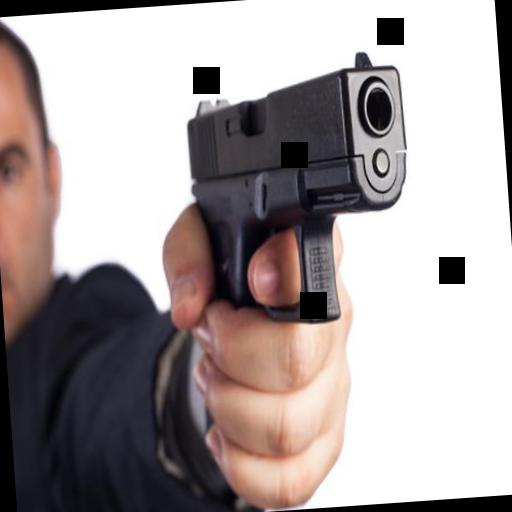Handgun: (179, 41, 428, 439)
